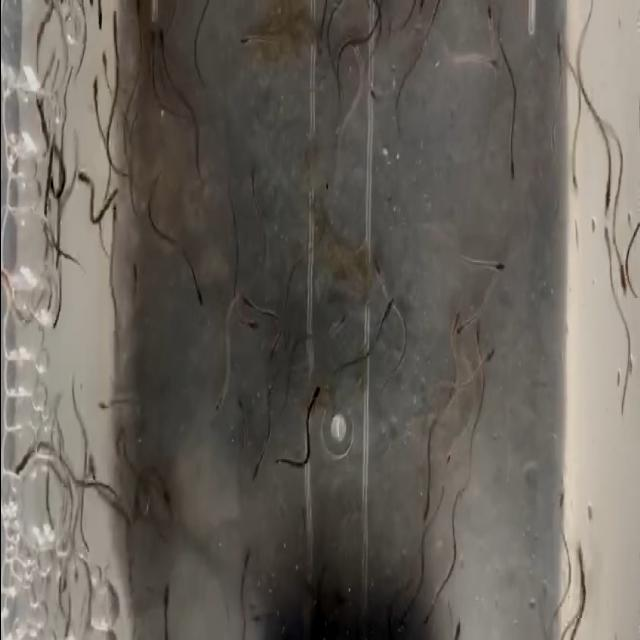active_glass_eel: (502, 126, 519, 184), (300, 381, 322, 416), (552, 472, 566, 526), (488, 246, 506, 288), (378, 283, 394, 326), (419, 590, 436, 630), (373, 247, 391, 284), (566, 163, 582, 203), (82, 75, 102, 106), (448, 294, 462, 338), (482, 336, 502, 366), (554, 20, 566, 70), (480, 5, 498, 38), (250, 448, 266, 484), (212, 383, 230, 415), (600, 178, 614, 218), (486, 52, 504, 82), (158, 579, 172, 616), (418, 490, 434, 522), (618, 257, 630, 296), (240, 536, 254, 568), (144, 25, 156, 61), (236, 29, 252, 56), (456, 313, 470, 343), (245, 314, 260, 339), (232, 292, 250, 312), (196, 282, 208, 308), (236, 396, 250, 418), (94, 393, 106, 418), (77, 165, 93, 182), (158, 23, 168, 49), (96, 50, 110, 68), (96, 7, 106, 31), (599, 230, 609, 248)
